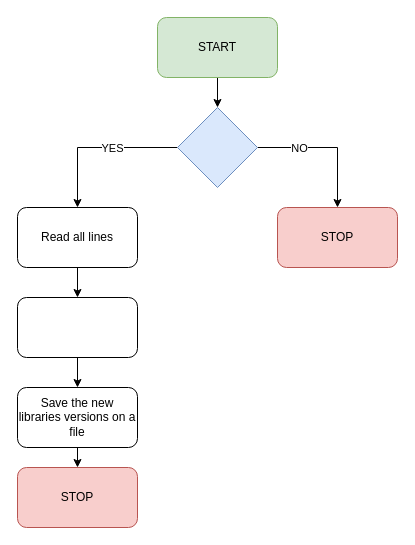
This 415x545 diagram has some shape labels left out. Each missing label, with the centre of its shape:
"Check if the file exist" goes at point 217,147.
"For each librairie, check on internet if new version exist" goes at point 77,327.
